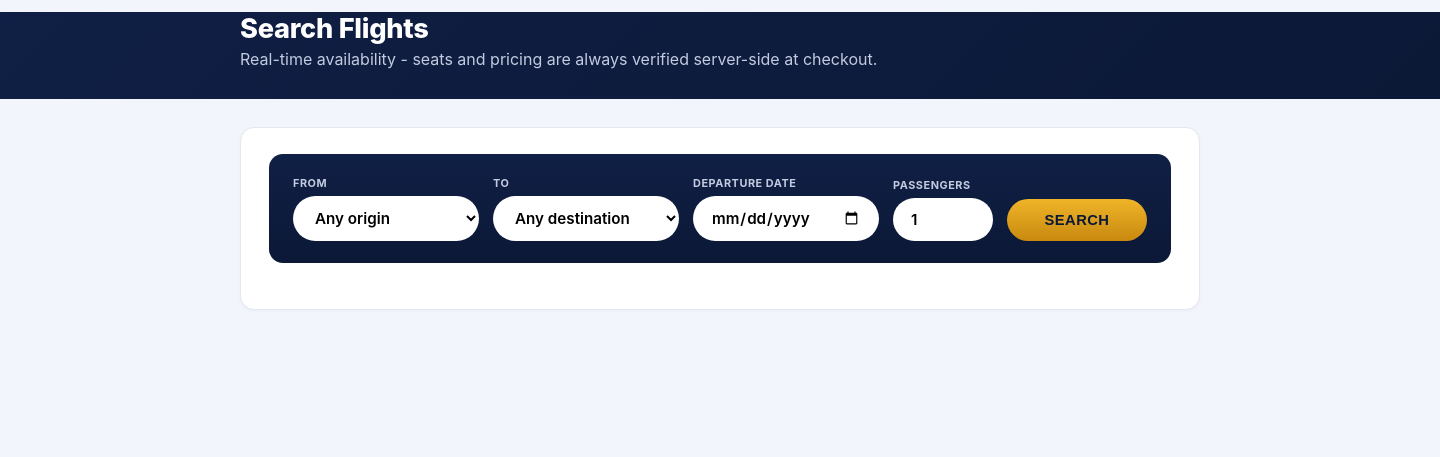
it: FlightSearch Component › shows a message when no flights match
The image size is (1440, 457).
Click the button "Search" at coordinates (1077, 220), box [1007,199,1147,241]
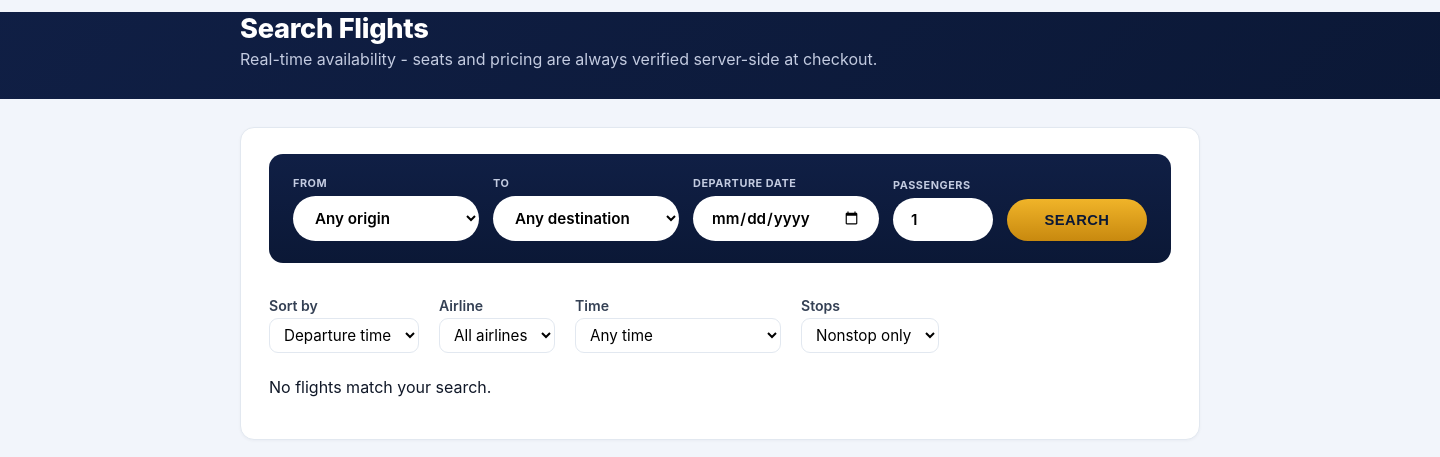
Check: the text "No flights match your search." is shown, box [269,377,491,397]
